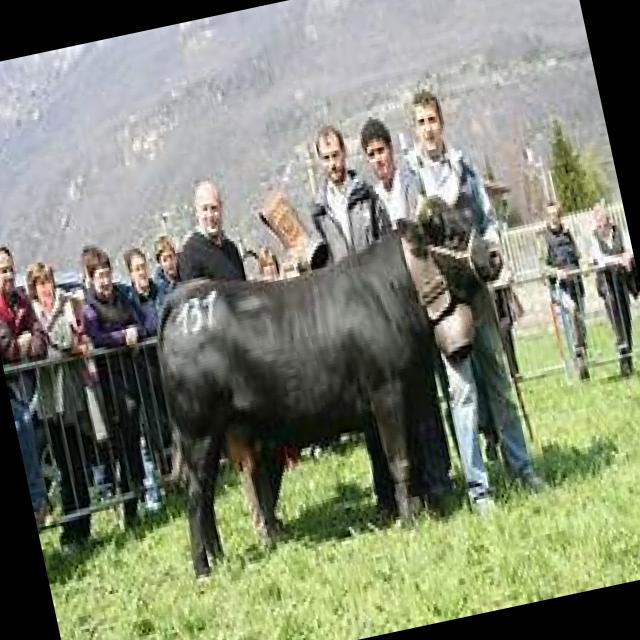animal: (132, 185, 554, 582)
